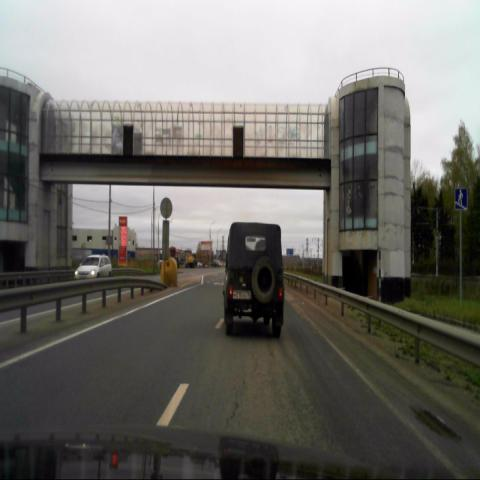6_7: (454, 189, 467, 210)
